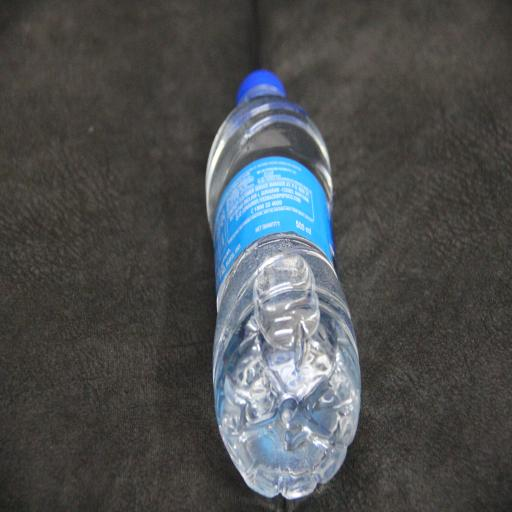Aquafina: (196, 41, 373, 512)
